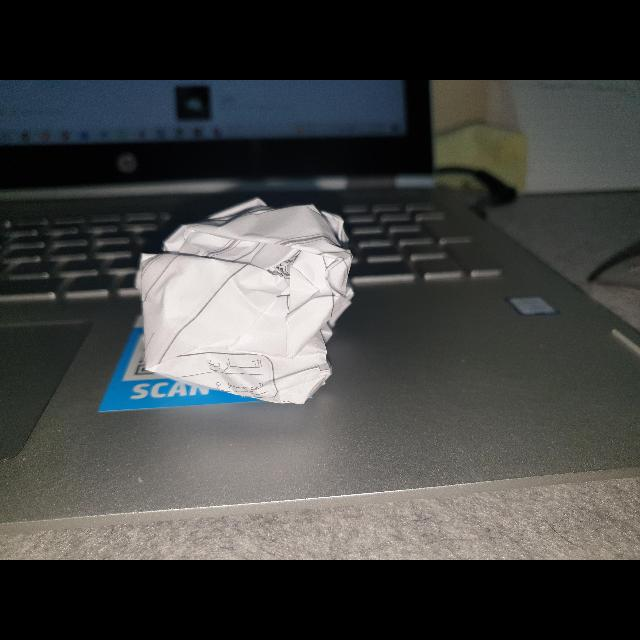scrap_paper: (132, 192, 362, 418)
